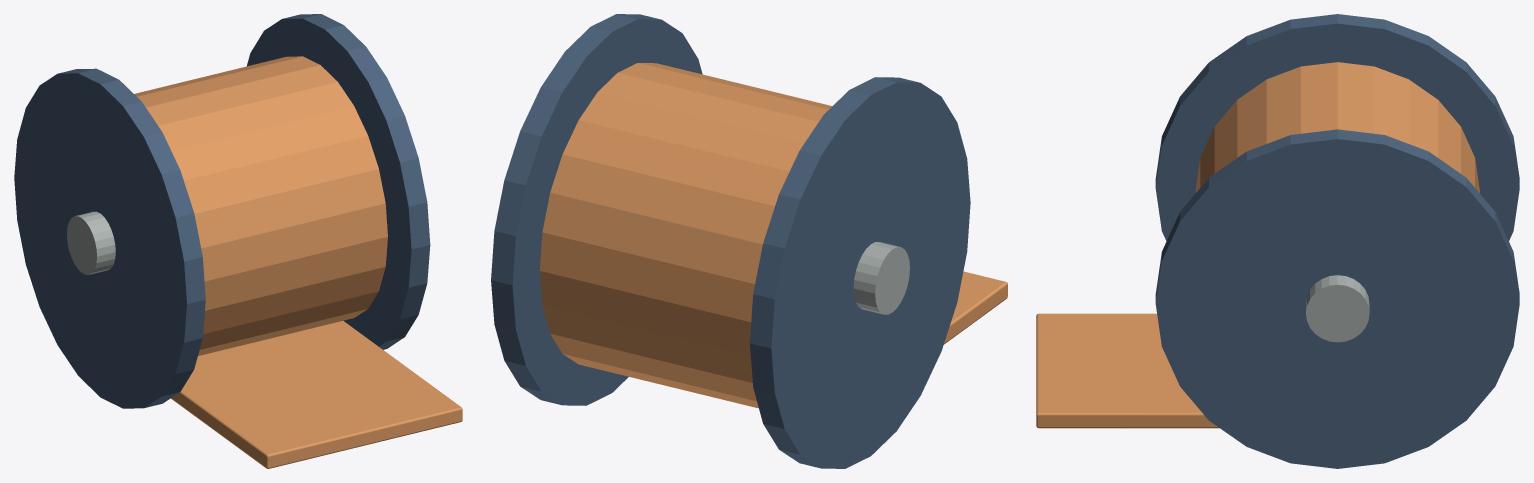
Rendered from spacecraft-parachute-packing-hall-spacecraft-parachute-e6301ea3__32112.glb.
3 views of the same model, side by side, from view 1: azimuth 30°, elevation 25°; view 2: azimuth 150°, elevation 25°; view 3: azimuth 270°, elevation 25° (orthographic). The views are drawn at different scales.
Visible parts, largest first — view 1: spacecraft-parachute-packing-hall-webbing-supply-reel; view 2: spacecraft-parachute-packing-hall-webbing-supply-reel; view 3: spacecraft-parachute-packing-hall-webbing-supply-reel.
Part boxes in pixels (x1,y1,x2,y2): spacecraft-parachute-packing-hall-webbing-supply-reel: [14, 14, 462, 468]; spacecraft-parachute-packing-hall-webbing-supply-reel: [491, 14, 1007, 468]; spacecraft-parachute-packing-hall-webbing-supply-reel: [1036, 14, 1519, 468].
Size of the model in its own units: 0.3 by 0.32 by 0.425.
